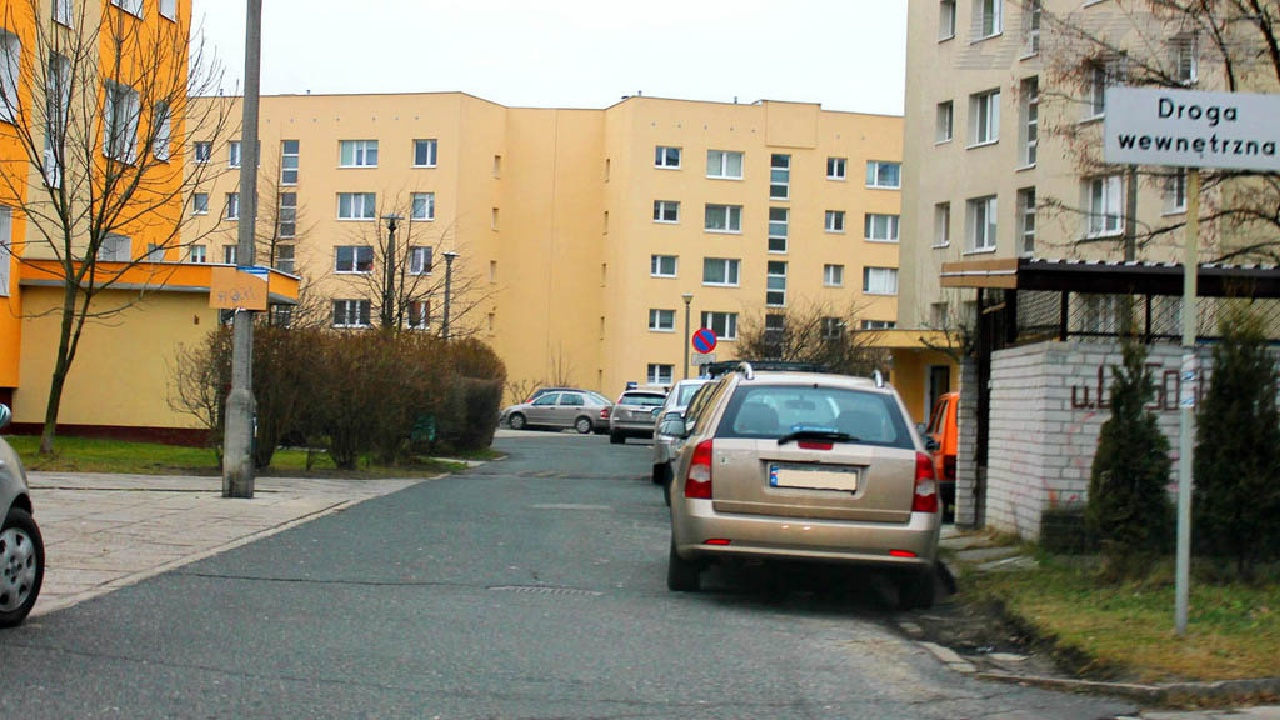B35: (692, 328, 717, 354)
